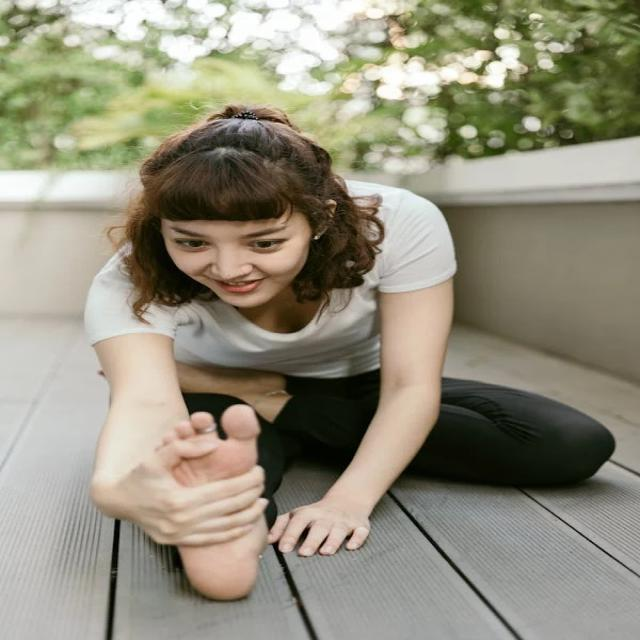Real human 2: (56, 91, 625, 611)
